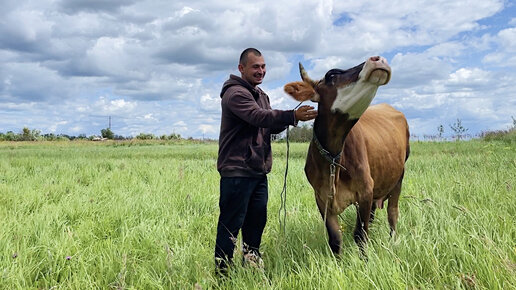cow: (286, 54, 422, 253)
person: (201, 41, 312, 268)
